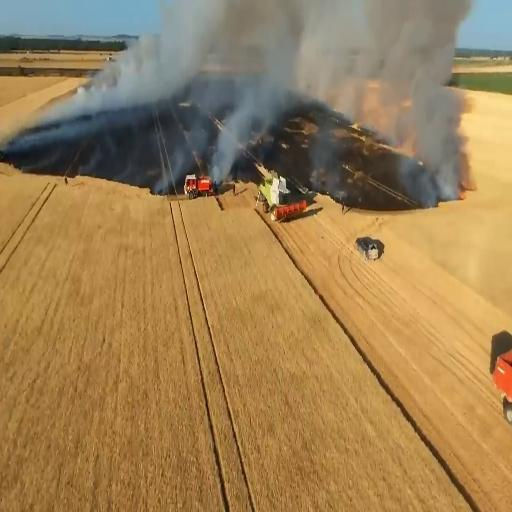fire: (457, 183, 479, 202)
smoke: (377, 0, 469, 204), (24, 37, 218, 129), (205, 37, 300, 186), (310, 117, 352, 196)
